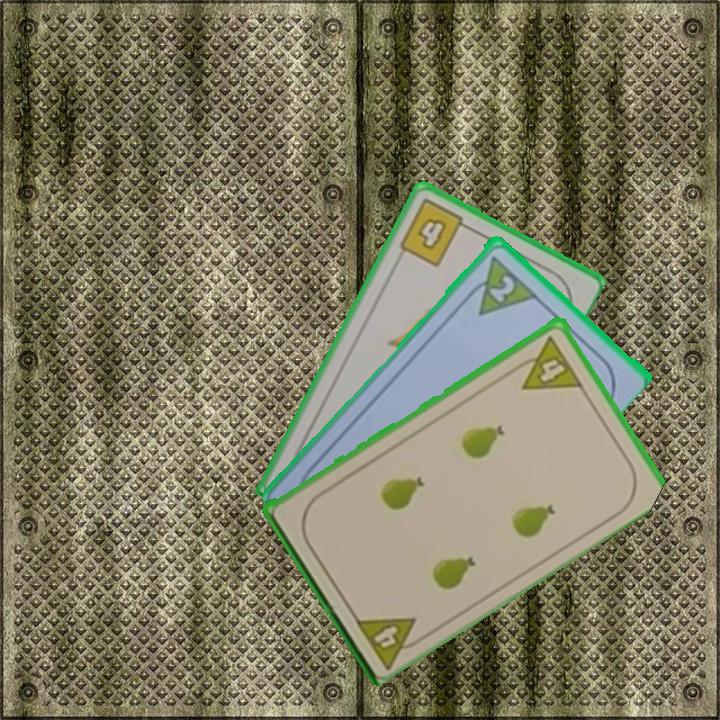2p: (485, 270, 518, 305)
4b: (395, 195, 475, 270)
4p: (350, 612, 430, 671), (509, 331, 585, 393)
